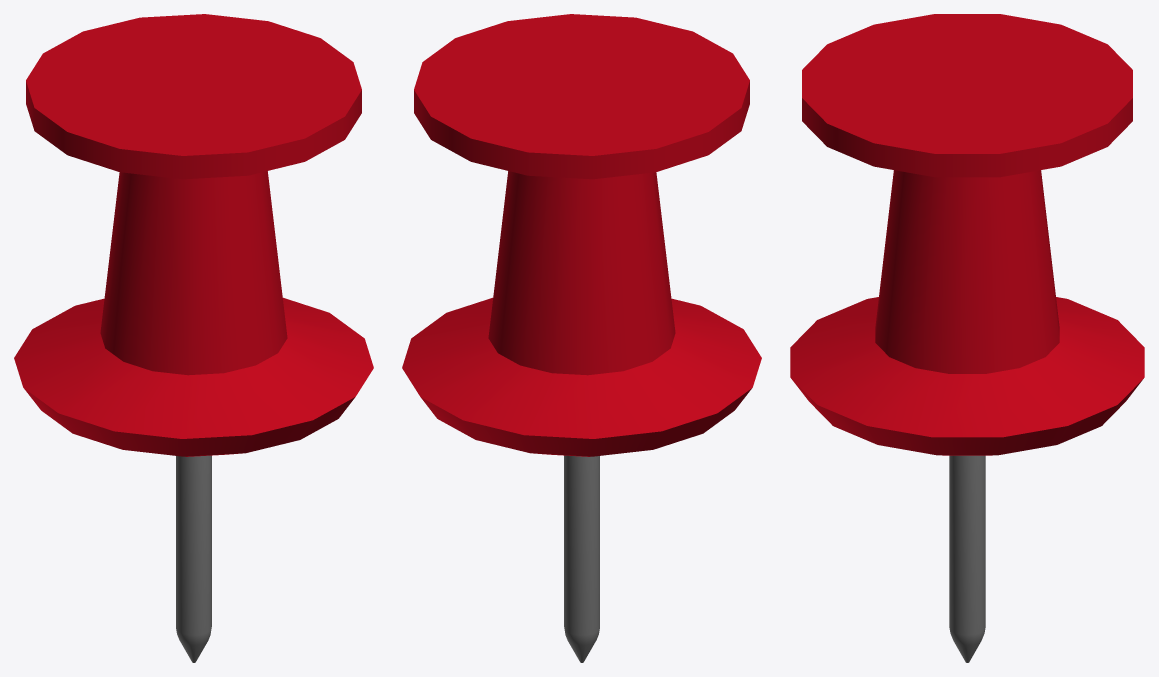
Rendered from push pin.fbx.
The picture shows the model from 3 angles, left to right: view 1: azimuth 30°, elevation 25°; view 2: azimuth 150°, elevation 25°; view 3: azimuth 270°, elevation 25°; orthographic projection.
Parts seen in each view (by area): view 1: Push Pin; view 2: Push Pin; view 3: Push Pin.
Part boxes in pixels (left/top/right/bottom): Push Pin: left=14, top=14, right=373, bottom=662; Push Pin: left=402, top=14, right=761, bottom=662; Push Pin: left=790, top=14, right=1144, bottom=662.
Bounding box in the file's own units: 10 × 18 × 10.
